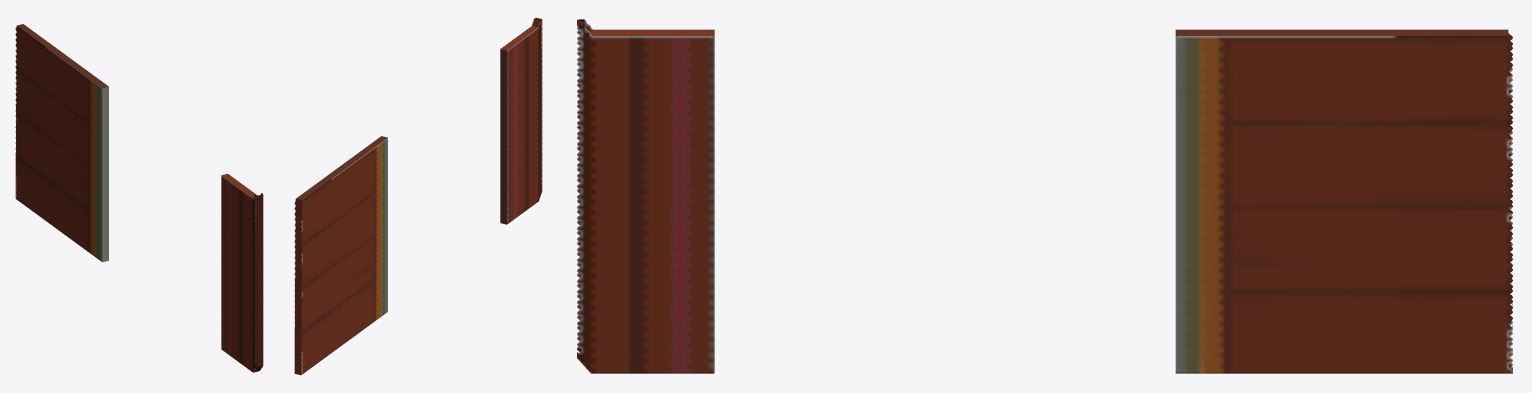
The model's file is pz_native_location_restaurant_spiffos_01_5_frame.obj.
The picture shows the model from 3 angles, left to right: view 1: azimuth 30°, elevation 25°; view 2: azimuth 150°, elevation 25°; view 3: azimuth 270°, elevation 25°; orthographic projection. The views are drawn at different scales.
Visible parts, largest first — view 1: pz_native_location_restaurant_spiffos_01_5_frame; view 2: pz_native_location_restaurant_spiffos_01_5_frame; view 3: pz_native_location_restaurant_spiffos_01_5_frame.
Boxes of the visible parts, x1,y1,x2,y2 form: pz_native_location_restaurant_spiffos_01_5_frame: (15,24,263,372); pz_native_location_restaurant_spiffos_01_5_frame: (294,17,542,375); pz_native_location_restaurant_spiffos_01_5_frame: (577,19,1512,373).
Size of the model in its own units: 0.04 by 1.06 by 2.54.
1 material, 1 textured.
